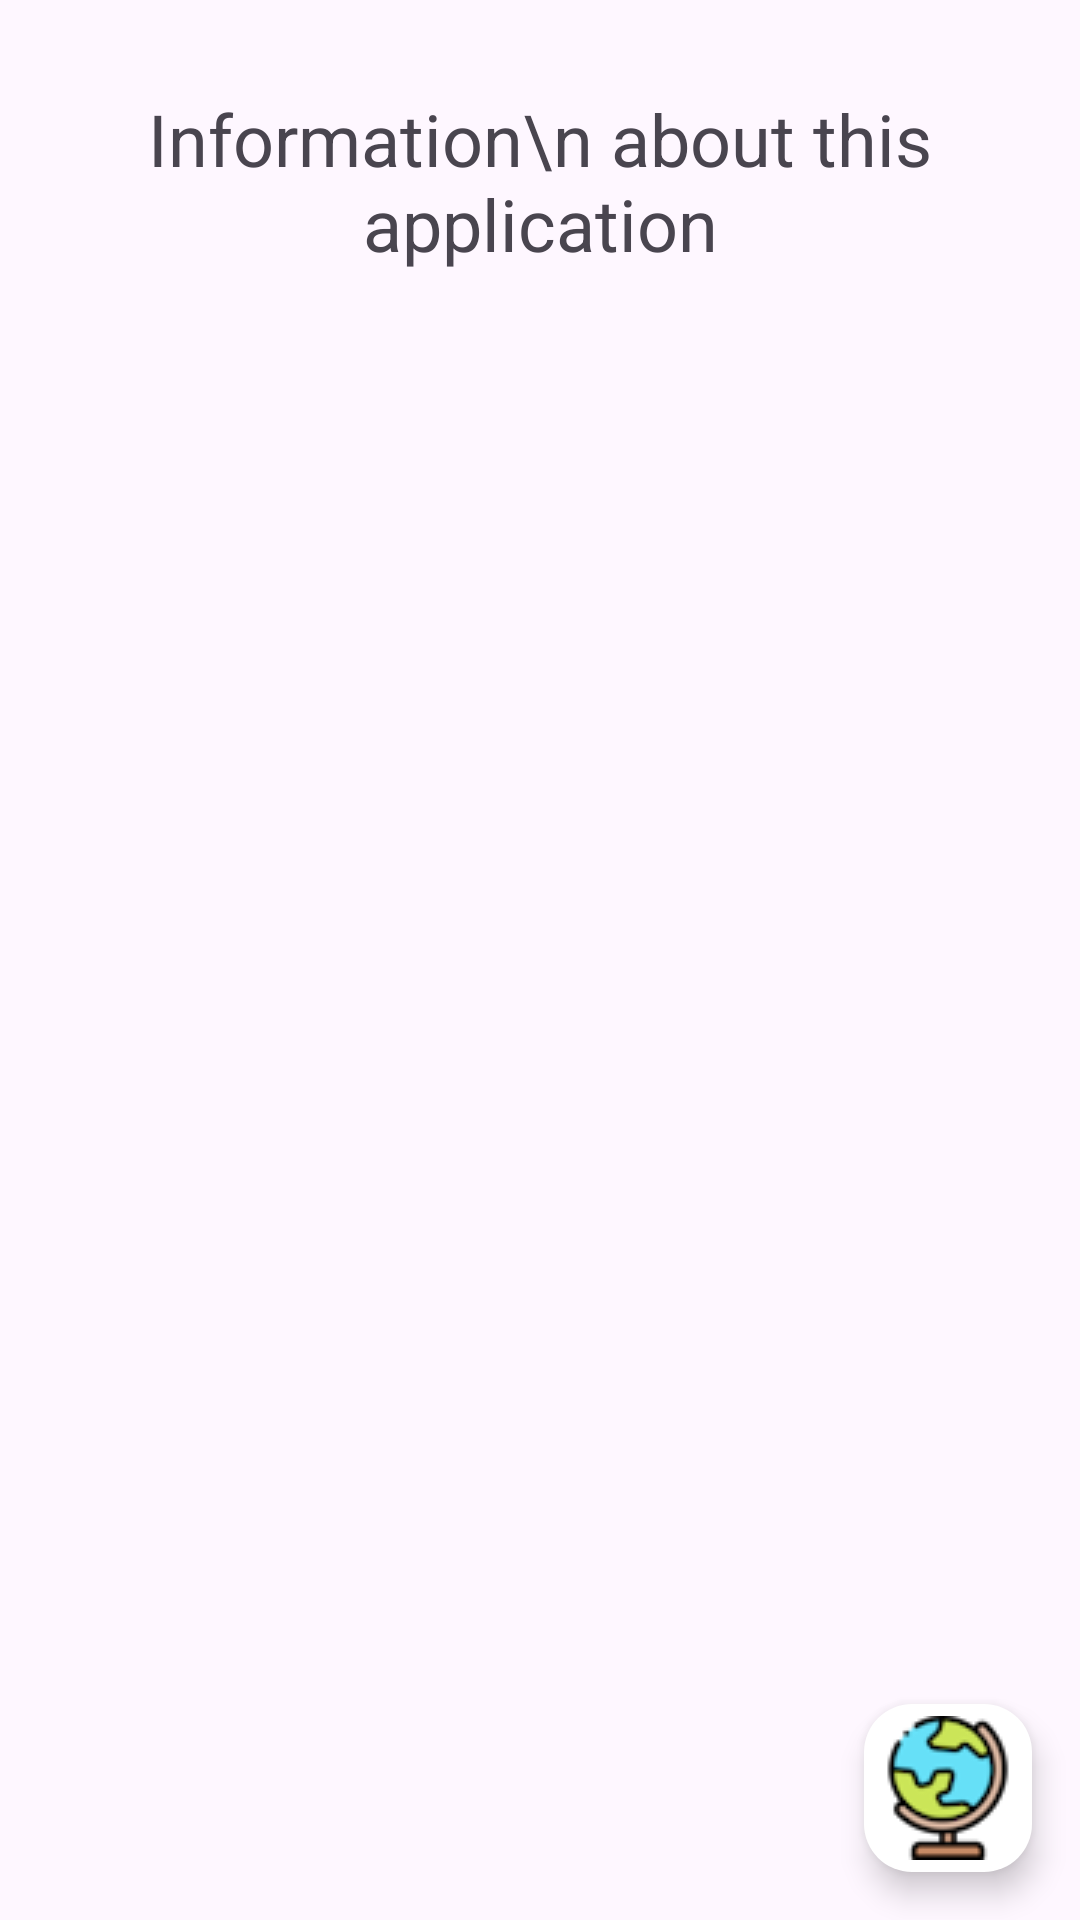

Point at icon controls on the screen. Image size 1080 x 1920, points as point (x, y).
globus: point (948, 1788)
